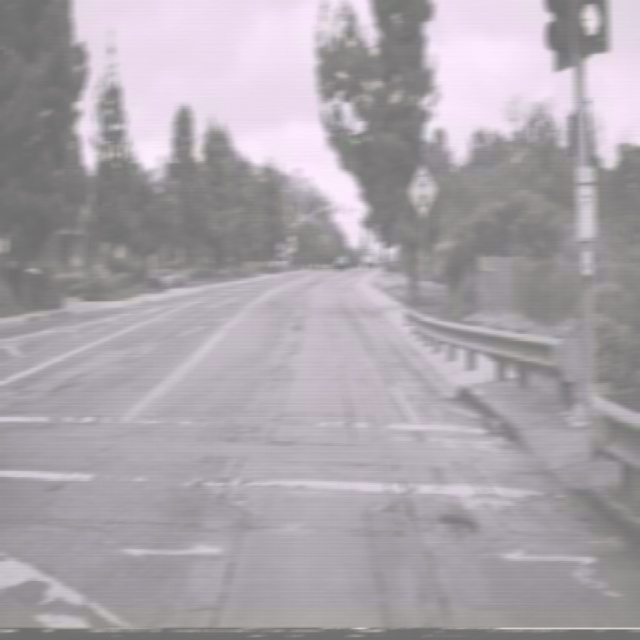signalAhead: (408, 160, 437, 218)
